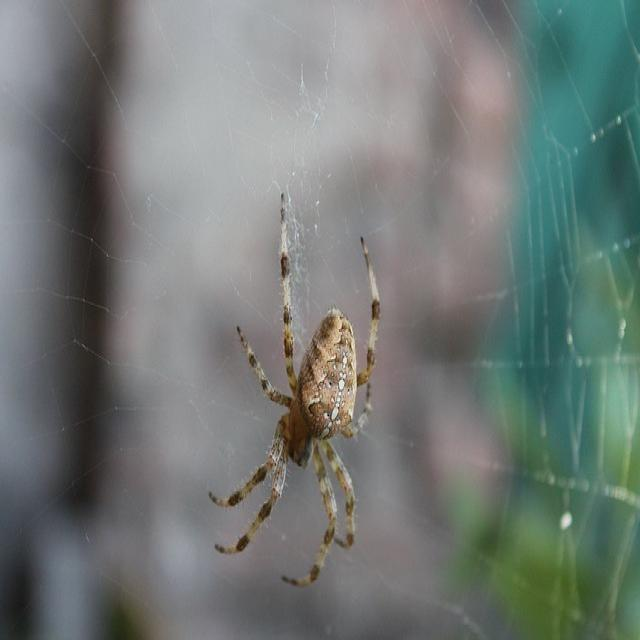spyder: (209, 194, 383, 589)
